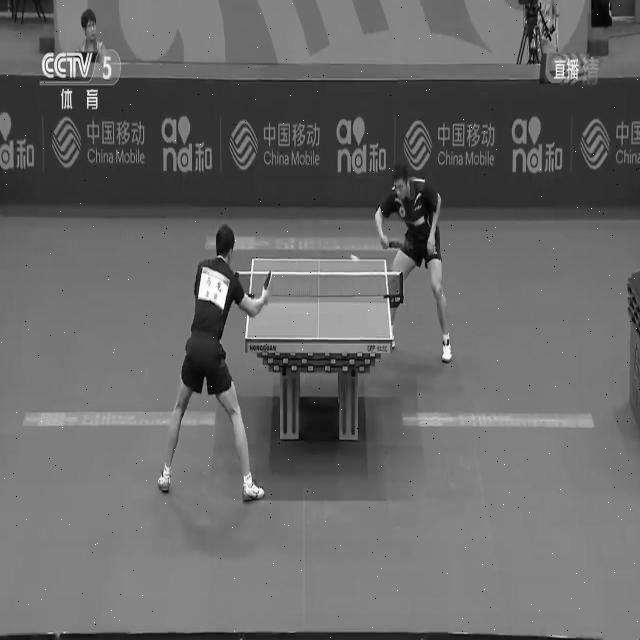ping-pong-ball: (348, 250, 359, 262)
